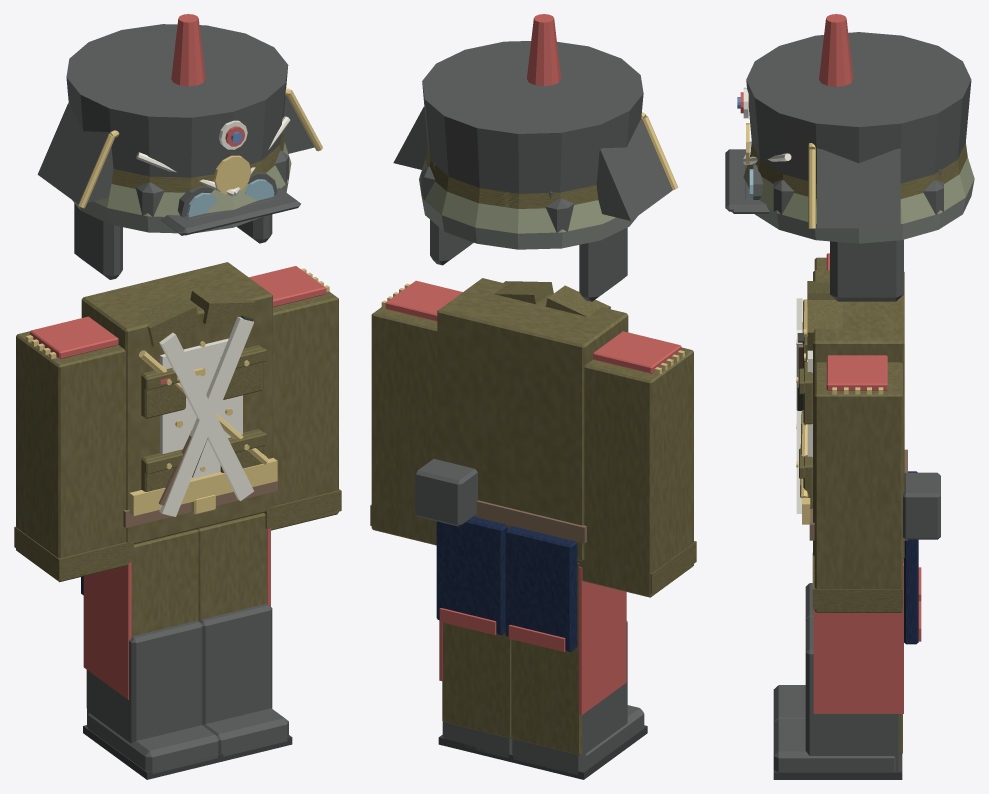
File: historical_uniforms.glb
The picture shows the model from 3 angles, left to right: view 1: azimuth 30°, elevation 25°; view 2: azimuth 150°, elevation 25°; view 3: azimuth 270°, elevation 25°; orthographic projection.
Parts seen in each view (by area): view 1: nap_fr_infantry.head.0490, ww2_su_infantry.arm_r.0002, ww2_su_infantry.body.0001, ww2_su_infantry.arm_l.0009, ww2_su_infantry.boot_r.0005, ww2_su_infantry.leg_l.0011, ww2_su_infantry.leg_r.0004, ww2_su_officer.boot_r.0034, ww2_su_general.leg_r.0178, ww2_su_infantry.boot_l.0012, nap_fr_officer.head.0542, nap_fr_infantry.body.0478 (+28 smaller); view 2: ww2_su_infantry.body.0001, nap_fr_infantry.head.0490, ww2_su_infantry.arm_r.0002, ww2_su_infantry.arm_l.0009, nap_fr_infantry.leg_r.0463, ww2_su_infantry.leg_r.0004, ww2_su_infantry.leg_l.0011, nap_fr_infantry.leg_l.0472, nap_fr_officer.head.0542, ww2_su_general.leg_r.0178, ww2_su_infantry.head.0029, nap_fr_infantry.body.0489 (+20 smaller); view 3: nap_fr_infantry.head.0490, ww2_su_infantry.arm_l.0009, ww2_su_general.leg_l.0191, nap_fr_officer.head.0542, ww2_su_infantry.body.0001, ww2_su_tanker.head.0115, ww2_su_infantry.boot_l.0012, ww2_su_infantry.boot_l.0013, ww2_de_infantry.head.0258, ww2_su_infantry.head.0029, nap_fr_infantry.body.0489, ww2_su_infantry.arm_l.0015 (+14 smaller).
Boxes of the visible parts, left/top/right/bottom form: nap_fr_infantry.head.0490: left=66, top=24, right=288, bottom=177; ww2_su_infantry.arm_r.0002: left=16, top=331, right=127, bottom=582; ww2_su_infantry.body.0001: left=81, top=262, right=272, bottom=544; ww2_su_infantry.arm_l.0009: left=271, top=291, right=338, bottom=530; ww2_su_infantry.boot_r.0005: left=87, top=649, right=202, bottom=743; ww2_su_infantry.leg_l.0011: left=197, top=512, right=267, bottom=621; ww2_su_infantry.leg_r.0004: left=86, top=529, right=198, bottom=707; ww2_su_officer.boot_r.0034: left=87, top=620, right=202, bottom=741; ww2_su_general.leg_r.0178: left=83, top=562, right=131, bottom=699; ww2_su_infantry.boot_l.0012: left=202, top=632, right=272, bottom=724; nap_fr_officer.head.0542: left=37, top=95, right=314, bottom=203; nap_fr_infantry.body.0478: left=160, top=338, right=242, bottom=478; ww2_su_infantry.body.0001: left=437, top=278, right=628, bottom=561; nap_fr_infantry.head.0490: left=422, top=41, right=643, bottom=193; ww2_su_infantry.arm_r.0002: left=579, top=347, right=693, bottom=597; ww2_su_infantry.arm_l.0009: left=371, top=307, right=437, bottom=545; nap_fr_infantry.leg_r.0463: left=505, top=526, right=577, bottom=651; ww2_su_infantry.leg_r.0004: left=511, top=563, right=582, bottom=755; ww2_su_infantry.leg_l.0011: left=442, top=622, right=511, bottom=738; nap_fr_infantry.leg_l.0472: left=436, top=516, right=507, bottom=634; nap_fr_officer.head.0542: left=393, top=107, right=672, bottom=220; ww2_su_general.leg_r.0178: left=578, top=566, right=626, bottom=715; ww2_su_infantry.head.0029: left=419, top=158, right=615, bottom=233; nap_fr_infantry.body.0489: left=415, top=459, right=477, bottom=526; nap_fr_infantry.head.0490: left=746, top=32, right=971, bottom=183; ww2_su_infantry.arm_l.0009: left=814, top=362, right=902, bottom=612; ww2_su_general.leg_l.0191: left=813, top=563, right=903, bottom=713; nap_fr_officer.head.0542: left=817, top=148, right=900, bottom=228; ww2_su_infantry.body.0001: left=813, top=270, right=904, bottom=558; ww2_su_tanker.head.0115: left=830, top=239, right=903, bottom=301; ww2_su_infantry.boot_l.0012: left=805, top=677, right=902, bottom=771; ww2_su_infantry.boot_l.0013: left=773, top=719, right=895, bottom=772; ww2_de_infantry.head.0258: left=755, top=179, right=974, bottom=243; ww2_su_infantry.head.0029: left=743, top=157, right=974, bottom=223; nap_fr_infantry.body.0489: left=903, top=472, right=940, bottom=539; ww2_su_infantry.arm_l.0015: left=826, top=355, right=887, bottom=390.
Bounding box in the file's own units: 1.02 × 2.49 × 0.775.
28 materials, 16 textured.
